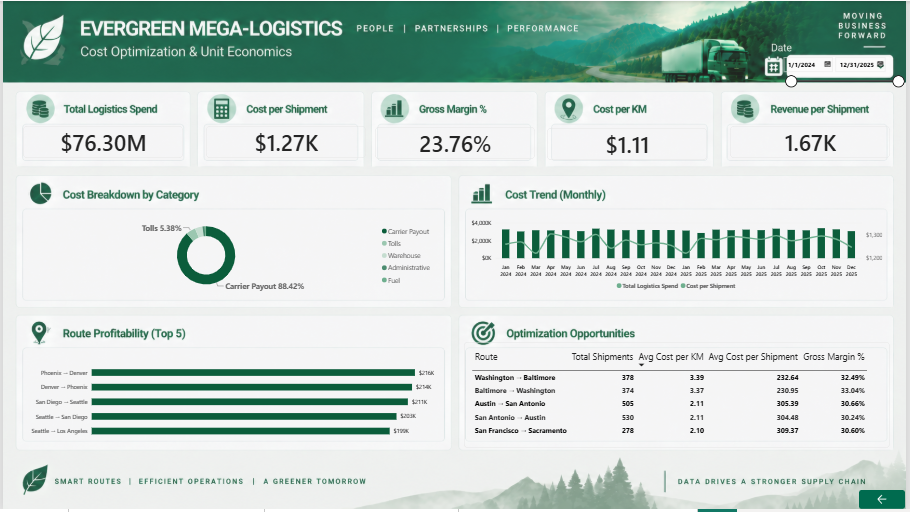

The page's visual inventory and layout, read from the dashboard file:
{"tool":"powerbi","page":{"name":"Cost Optimization & Unit Economics","canvas":[1920,1080],"ordinal":3},"visuals":[{"type":"cardVisual","fields":{"Data":["Measures (2).Total Logistics Spend"]},"box":[42.5,265.7,340.2,68],"z":0},{"type":"cardVisual","fields":{"Data":["Measures (2).Cost per Shipment"]},"box":[432.4,265.4,340.2,68],"z":1000},{"type":"cardVisual","fields":{"Data":["Measures (2).Gross Margin %"]},"box":[789.8,267.6,340.2,68],"z":2000},{"type":"cardVisual","fields":{"Data":["Measures (2).Cost per KM"]},"box":[1155.9,269.7,340.2,68],"z":3000},{"type":"cardVisual","fields":{"Data":["Measures (2).Revenue per Shipment"]},"box":[1545.4,265.4,340.2,68],"z":4000},{"type":"donutChart","fields":{"Category":["Cost Categories.Cost Category"],"Y":["Measures (2).Cost by Category"]},"box":[42.8,449.5,890.4,186.2],"z":5000},{"type":"lineClusteredColumnComboChart","fields":{"Category":["evergreen_mega_logistics dim_date.Month_Year"],"Y":["Measures (2).Total Logistics Spend"],"Y2":["Measures (2).Cost per Shipment"]},"box":[980.3,449.5,905.4,186.2],"z":6000},{"type":"clusteredBarChart","fields":{"Category":["evergreen_mega_logistics fact_shipments.Route"],"Y":["Measures (2).Gross Profit"]},"box":[42.1,748,890.2,202.8],"z":7000},{"type":"tableEx","fields":{"Values":["evergreen_mega_logistics fact_shipments.Route","Measures (2).Total Shipments","Measures (2).Avg Cost per KM","Measures (2).Avg Cost per Shipment","Measures (2).Gross Margin %"]},"box":[980.3,725.6,905.4,224.7],"z":8000},{"type":"slicer","fields":{"Values":["evergreen_mega_logistics dim_date.Date"]},"box":[1652.4,115.6,267.6,72.8],"z":9000},{"type":"actionButton","box":[1819.8,1039.6,97.8,40.4],"z":10000}]}

Visuals, with their boxes in screenshot pixels (x1, y1, x2, y2), scaled from the page's 1920x1080 canvas onto the 910x512 screenshot:
cardVisual - Measures (2).Total Logistics Spend: left=20, top=126, right=181, bottom=158
cardVisual - Measures (2).Cost per Shipment: left=205, top=126, right=366, bottom=158
cardVisual - Measures (2).Gross Margin %: left=374, top=127, right=536, bottom=159
cardVisual - Measures (2).Cost per KM: left=548, top=128, right=709, bottom=160
cardVisual - Measures (2).Revenue per Shipment: left=732, top=126, right=894, bottom=158
donutChart - Cost Categories.Cost Category x Measures (2).Cost by Category: left=20, top=213, right=442, bottom=301
lineClusteredColumnComboChart - evergreen_mega_logistics dim_date.Month_Year x Measures (2).Total Logistics Spend: left=465, top=213, right=894, bottom=301
clusteredBarChart - evergreen_mega_logistics fact_shipments.Route x Measures (2).Gross Profit: left=20, top=355, right=442, bottom=451
tableEx - evergreen_mega_logistics fact_shipments.Route x Measures (2).Total Shipments: left=465, top=344, right=894, bottom=451
slicer - evergreen_mega_logistics dim_date.Date: left=783, top=55, right=909, bottom=89
actionButton: left=863, top=493, right=909, bottom=511
